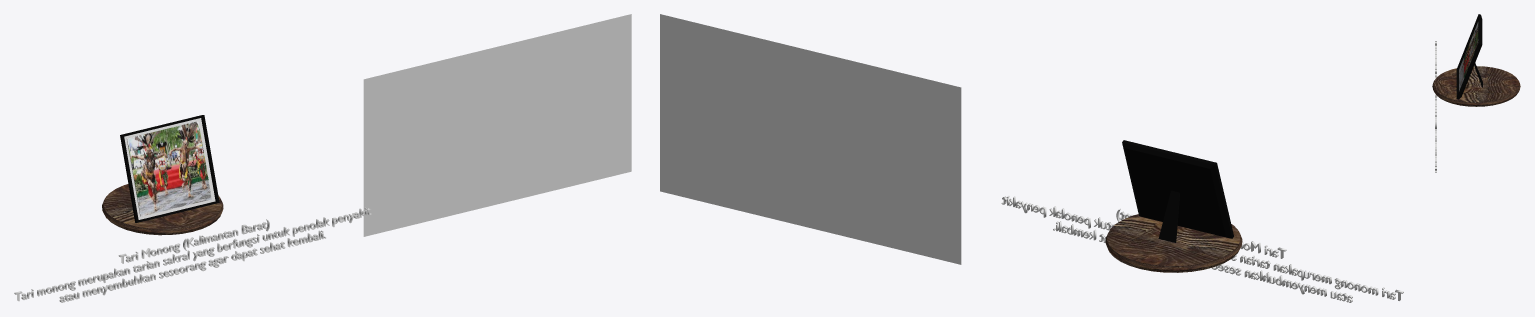
File: 21. Tari Monong (Kalimantan Barat).fbx
3 views of the same model, side by side, from view 1: azimuth 30°, elevation 25°; view 2: azimuth 150°, elevation 25°; view 3: azimuth 270°, elevation 25° (orthographic). The views are drawn at different scales.
Parts seen in each view (by area): view 1: Plane, Cube.024, Text; view 2: Plane, Cube.024, Text; view 3: Cube.024, Text.
Boxes of the visible parts, x1=… form: Plane: x1=363, y1=14, x2=631, y2=236; Cube.024: x1=102, y1=115, x2=223, y2=235; Text: x1=14, y1=207, x2=371, y2=302; Plane: x1=660, y1=14, x2=961, y2=264; Cube.024: x1=1105, y1=140, x2=1242, y2=272; Text: x1=1001, y1=196, x2=1403, y2=302; Cube.024: x1=1432, y1=14, x2=1520, y2=106; Text: x1=1435, y1=41, x2=1436, y2=172.
Size of the model in its own units: 7627 by 1800 by 1260.
Materials: 6 (3 with a texture image).
